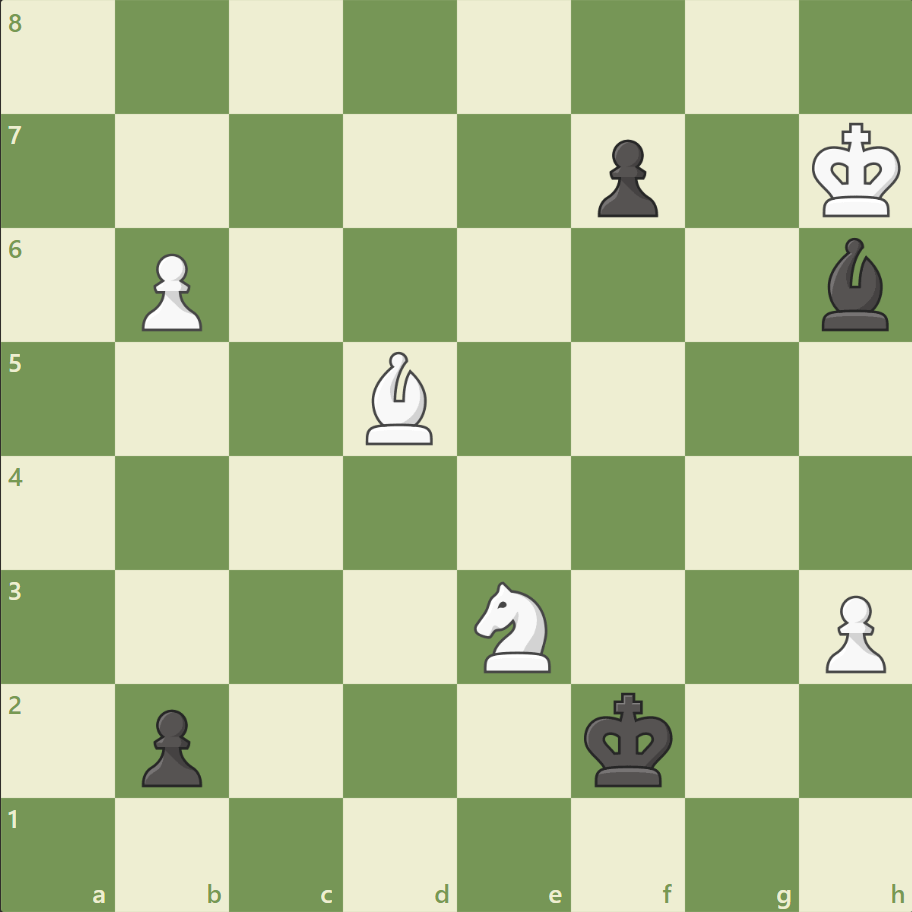B: (358, 347, 442, 449)
K: (806, 117, 906, 225)
N: (465, 575, 562, 677)
P: (133, 246, 208, 337), (815, 586, 889, 677)
b: (812, 233, 896, 336)
k: (579, 685, 679, 793)
p: (133, 700, 208, 791), (588, 132, 662, 223)
